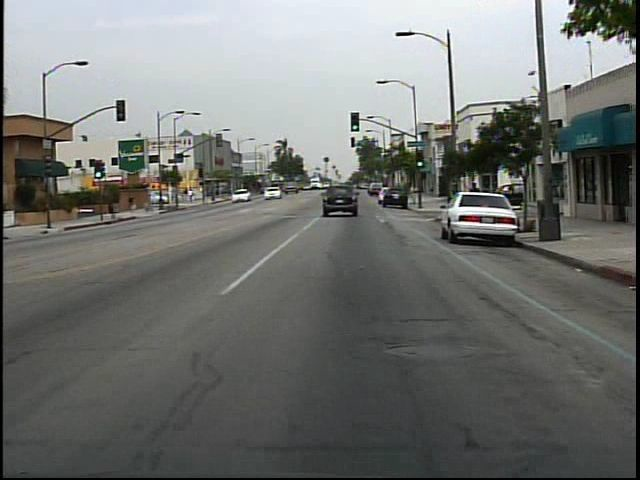person: (465, 178, 485, 217), (125, 192, 144, 221), (188, 187, 197, 206)
